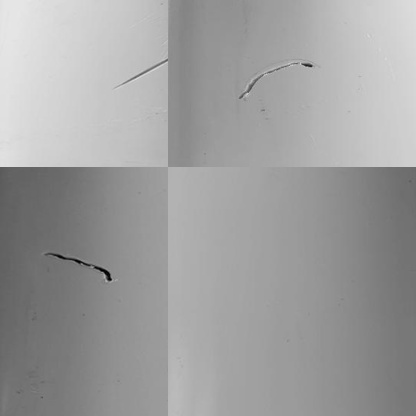fengxi: (236, 56, 321, 103), (39, 247, 116, 289)
sunshang: (111, 58, 167, 85)
